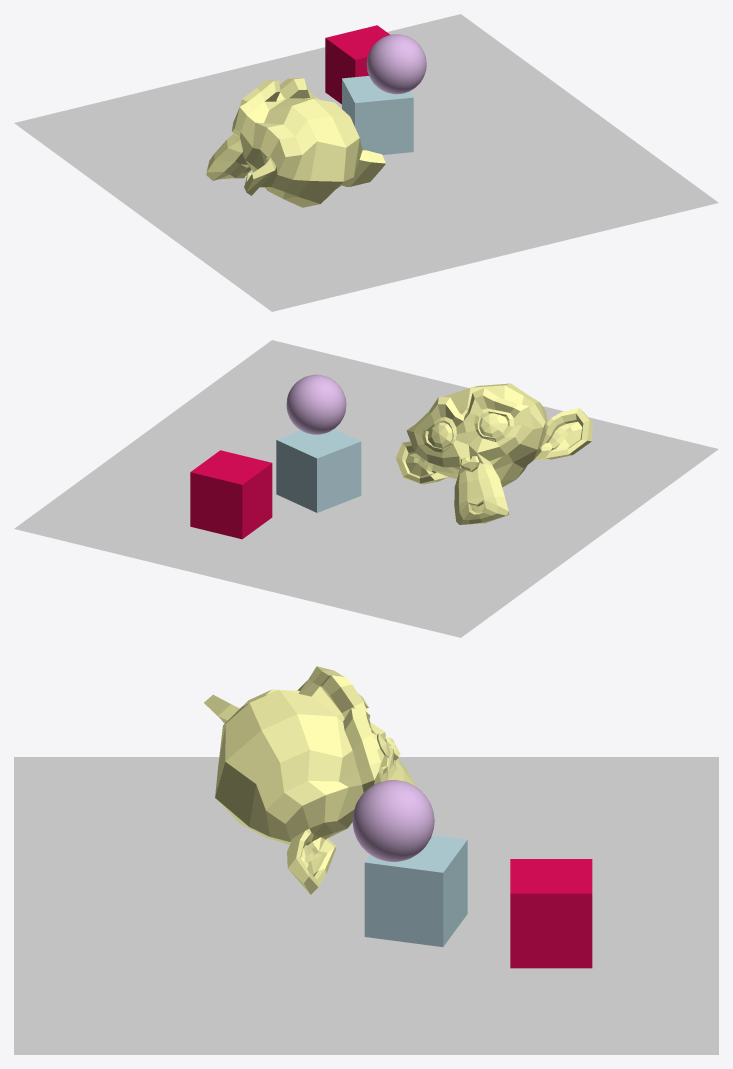
3 renders of one model, top to bottom at view 1: azimuth 30°, elevation 25°; view 2: azimuth 150°, elevation 25°; view 3: azimuth 270°, elevation 25°, orthographic. The views are drawn at different scales.
Visible parts, largest first — view 1: Plane, Suzanne, Cube, Sphere, Cube.001; view 2: Plane, Suzanne, Cube.001, Cube, Sphere; view 3: Plane, Suzanne, Cube, Cube.001, Sphere.
Part boxes in pixels (box(x1,y1,x2,y2)): Plane: box(14, 14, 718, 311); Suzanne: box(206, 78, 385, 207); Cube: box(342, 76, 413, 154); Sphere: box(366, 34, 426, 94); Cube.001: box(325, 25, 390, 104); Plane: box(14, 340, 718, 637); Suzanne: box(396, 383, 592, 524); Cube.001: box(190, 450, 272, 539); Cube: box(276, 429, 361, 512); Sphere: box(286, 374, 346, 434); Plane: box(14, 757, 718, 1054); Suzanne: box(204, 666, 415, 894); Cube: box(364, 835, 467, 947); Cube.001: box(510, 859, 592, 968); Sphere: box(352, 780, 434, 861).
Bounding box in the file's own units: 17.17 × 4.35 × 17.17.
